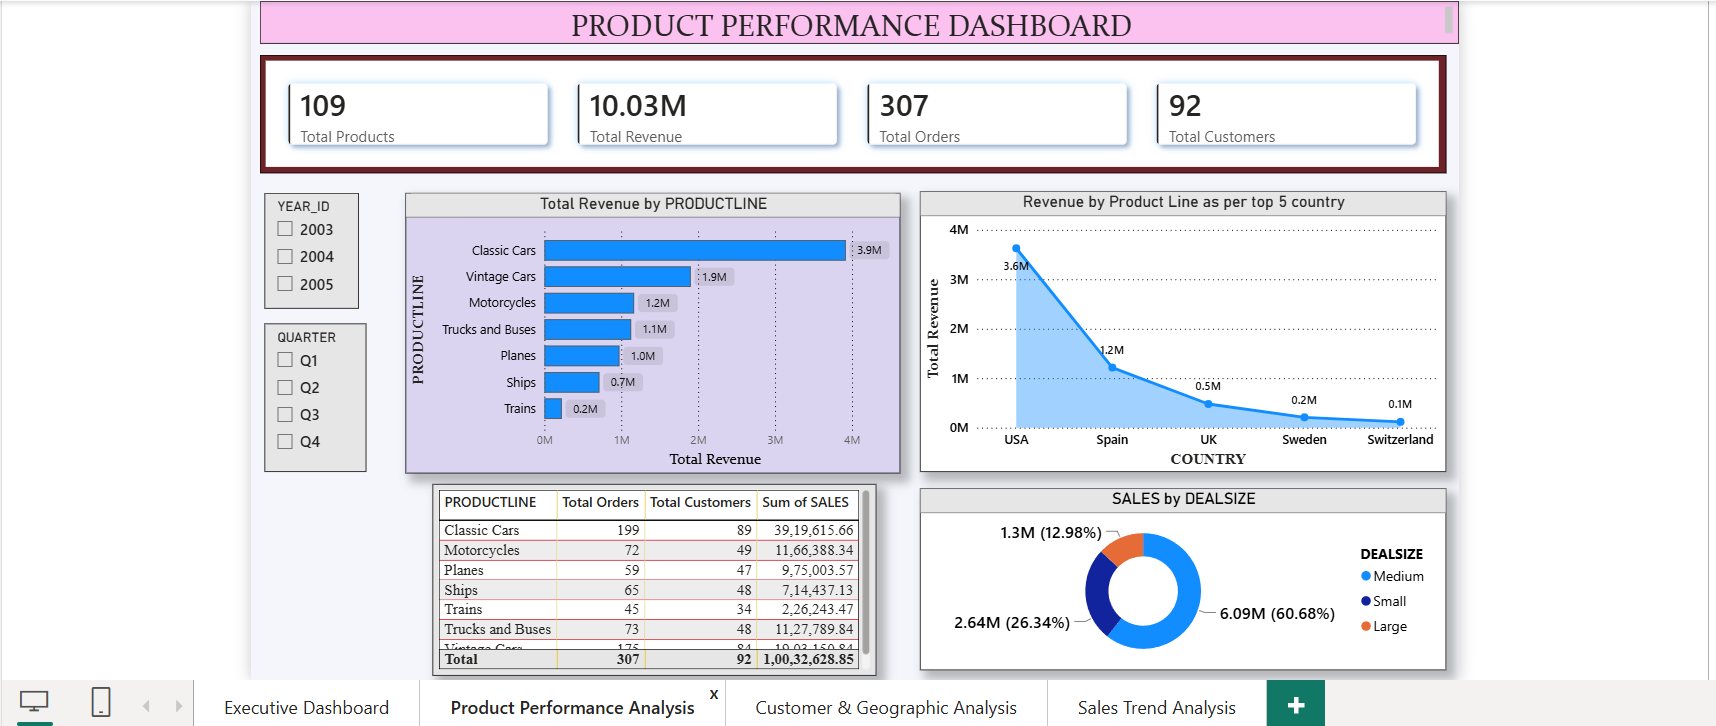

The page's visual inventory and layout, read from the dashboard file:
{"tool":"powerbi","page":{"name":"Product Performance Analysis","canvas":[1280,720],"ordinal":1},"visuals":[{"type":"textbox","box":[9.7,0,1271.1,45.3],"z":0},{"type":"cardVisual","fields":{"Data":["global_sales_cleaned.Total Products","global_sales_cleaned.Total Revenue","global_sales_cleaned.Total Orders","global_sales_cleaned.Total Customers"]},"box":[9.5,57.3,1258.2,125.7],"z":1000},{"type":"clusteredBarChart","fields":{"Category":["global_sales_cleaned.PRODUCTLINE"],"Y":["global_sales_cleaned.Total Revenue"]},"box":[163.8,203.6,524.9,297.4],"z":2000},{"type":"lineChart","title":"Revenue by Product Line as per top 5 country","fields":{"Y":["global_sales_cleaned.Total Revenue"],"Category":["global_sales_cleaned.COUNTRY"]},"box":[709.4,202,558.3,297.4],"z":3000},{"type":"slicer","fields":{"Values":["global_sales_cleaned.YEAR_ID"]},"box":[14.3,203.6,100.2,122.5],"z":4000},{"type":"slicer","fields":{"Values":["global_sales_cleaned.QUARTER"]},"box":[14.3,342,108.2,157.5],"z":5000},{"type":"tableEx","fields":{"Values":["global_sales_cleaned.PRODUCTLINE","global_sales_cleaned.Total Orders","global_sales_cleaned.Total Customers","Sum(global_sales_cleaned.SALES)"]},"box":[191.8,512.4,470.5,203],"z":6000},{"type":"donutChart","title":"SALES by DEALSIZE","fields":{"Category":["global_sales_cleaned.DEALSIZE"],"Y":["Sum(global_sales_cleaned.SALES)"]},"box":[709.4,516.9,558.3,192.5],"z":7000}]}

Visuals, with their boxes on the page's 1280x720 design canvas (x1, y1, x2, y2). These are canvas units, not pixel positions in the 1716x726 screenshot, which may show the page scaled, cropped or inside an application window:
textbox: {"left": 10, "top": 0, "right": 1281, "bottom": 45}
cardVisual - global_sales_cleaned.Total Products x global_sales_cleaned.Total Revenue: {"left": 10, "top": 57, "right": 1268, "bottom": 183}
clusteredBarChart - global_sales_cleaned.PRODUCTLINE x global_sales_cleaned.Total Revenue: {"left": 164, "top": 204, "right": 689, "bottom": 501}
"Revenue by Product Line as per top 5 country" lineChart: {"left": 709, "top": 202, "right": 1268, "bottom": 499}
slicer - global_sales_cleaned.YEAR_ID: {"left": 14, "top": 204, "right": 114, "bottom": 326}
slicer - global_sales_cleaned.QUARTER: {"left": 14, "top": 342, "right": 122, "bottom": 500}
tableEx - global_sales_cleaned.PRODUCTLINE x global_sales_cleaned.Total Orders: {"left": 192, "top": 512, "right": 662, "bottom": 715}
"SALES by DEALSIZE" donutChart: {"left": 709, "top": 517, "right": 1268, "bottom": 709}
